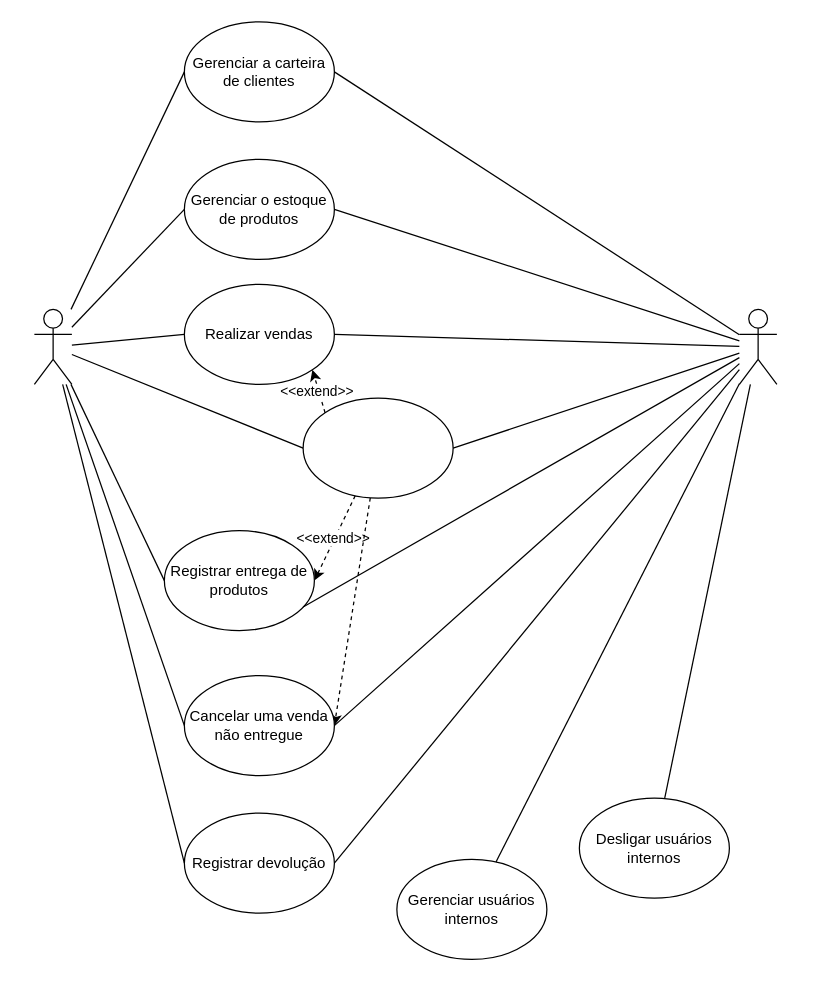
Some shapes in this 826 by 981 pixel diagram are drawn without their labels. The shapes that lost their labels are listed below. From the top down, each one's centre as x and y in pixels, then its label:
(52,346): Vendedor
(757,346): Administrador
(377,447): Visualizar produtos não entregues
